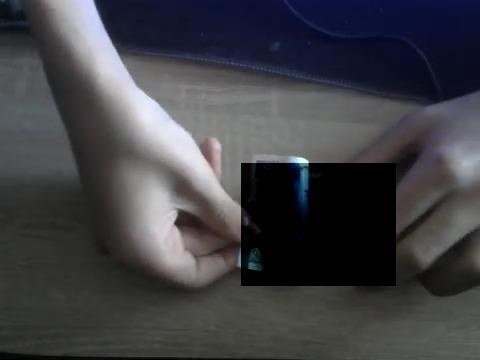20leva: (241, 163, 396, 286)
